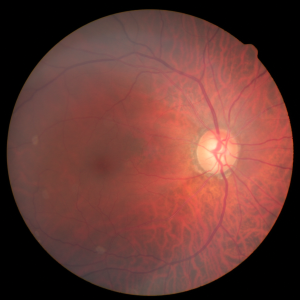glaucoma: (88, 104, 272, 216)
